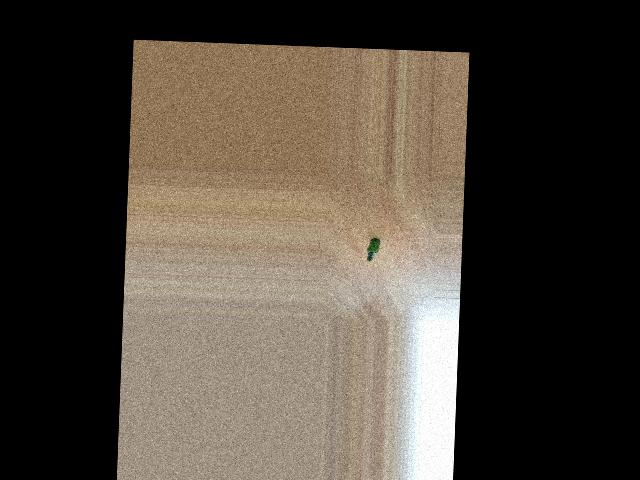beer: (366, 237, 381, 261)
